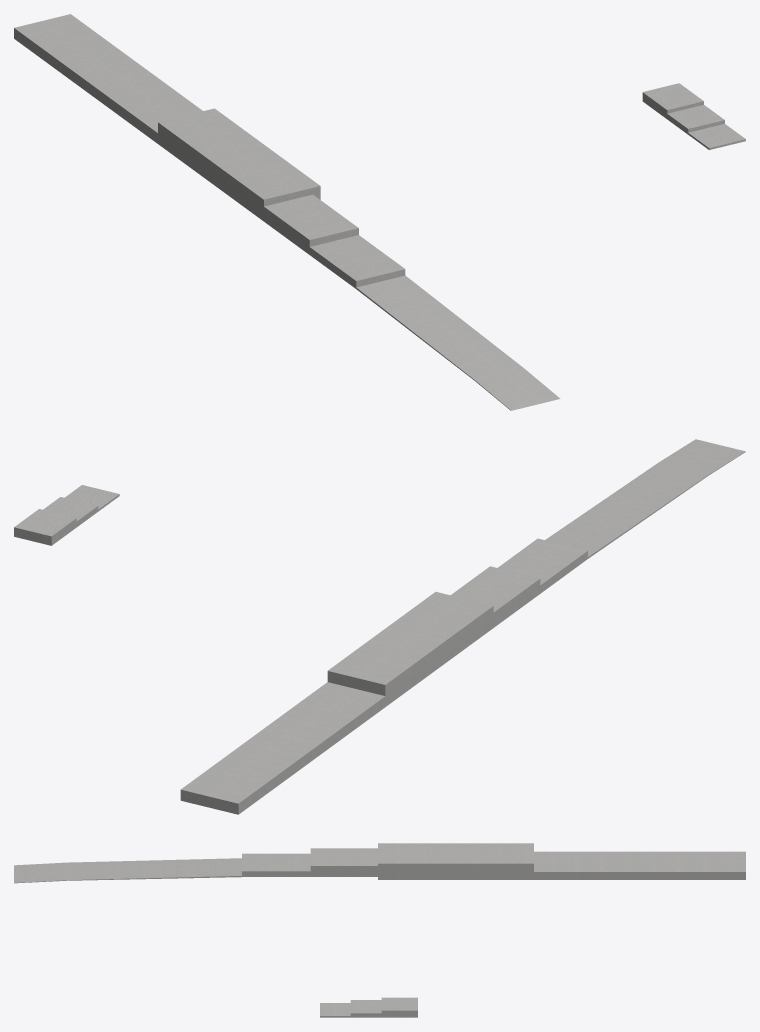
The model's file is landscape fix.fbx.
The picture shows the model from 3 angles, top to bottom: view 1: azimuth 30°, elevation 25°; view 2: azimuth 150°, elevation 25°; view 3: azimuth 270°, elevation 25°; orthographic projection. The views are drawn at different scales.
Visible parts, largest first — view 1: Group_024, Group_591; view 2: Group_024, Group_591; view 3: Group_024, Group_591.
Boxes of the visible parts, x1,y1,x2,y2 form: Group_024: (14,14,560,410); Group_591: (642,83,745,149); Group_024: (180,439,745,814); Group_591: (14,485,119,545); Group_024: (14,843,745,883); Group_591: (320,997,417,1017).
Bounding box in the file's own units: 7937 × 518 × 15439.
1 material, 1 textured.
